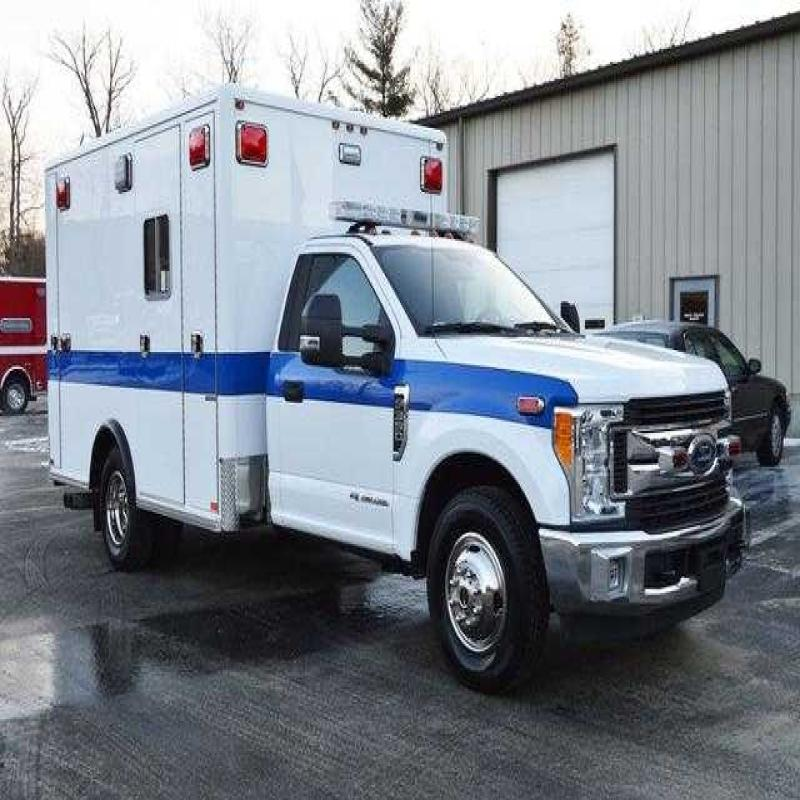AmbulanceSiren: (192, 118, 286, 179), (404, 134, 454, 194)
